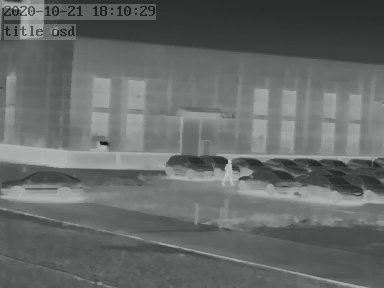person: (220, 160, 235, 187)
vehicle: (1, 171, 84, 200), (296, 174, 364, 203), (240, 168, 295, 193), (163, 153, 212, 179), (201, 152, 238, 176), (350, 174, 384, 200), (231, 155, 271, 172), (261, 155, 301, 172), (345, 156, 378, 171), (316, 156, 347, 170), (297, 156, 326, 169)
